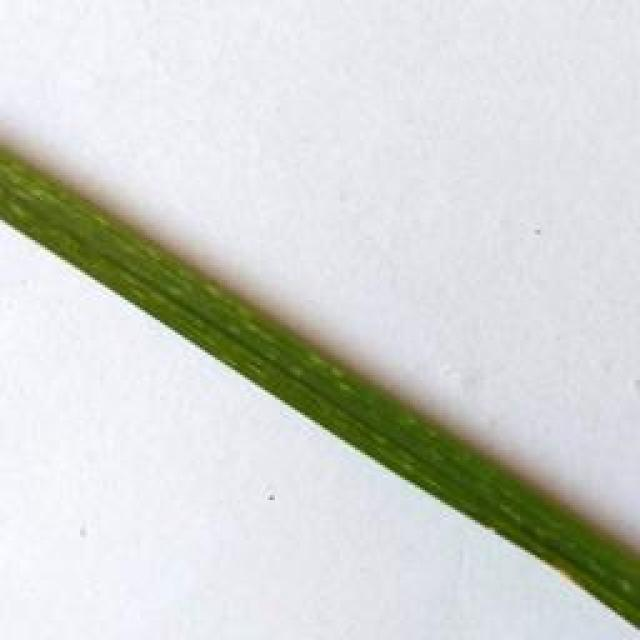Healthy-Plant: (0, 147, 640, 626)
